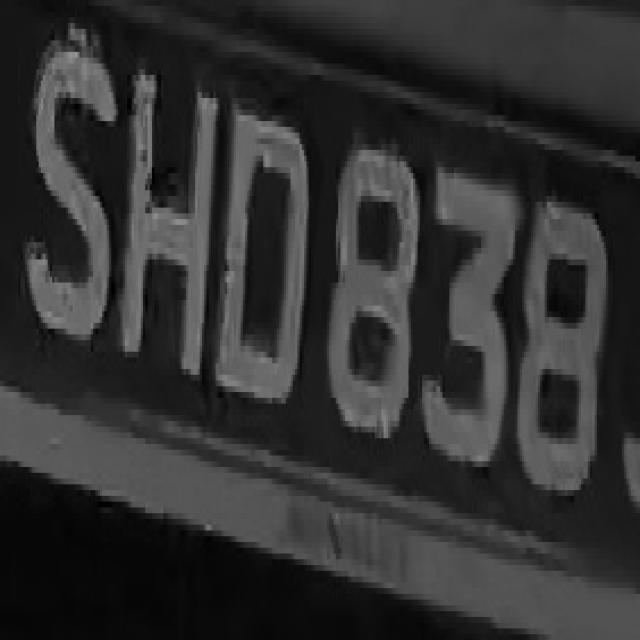3: (429, 132, 515, 496)
8: (513, 162, 610, 508), (327, 121, 418, 467)
D: (218, 80, 311, 427)
H: (113, 52, 218, 398)
S: (30, 29, 111, 357)
